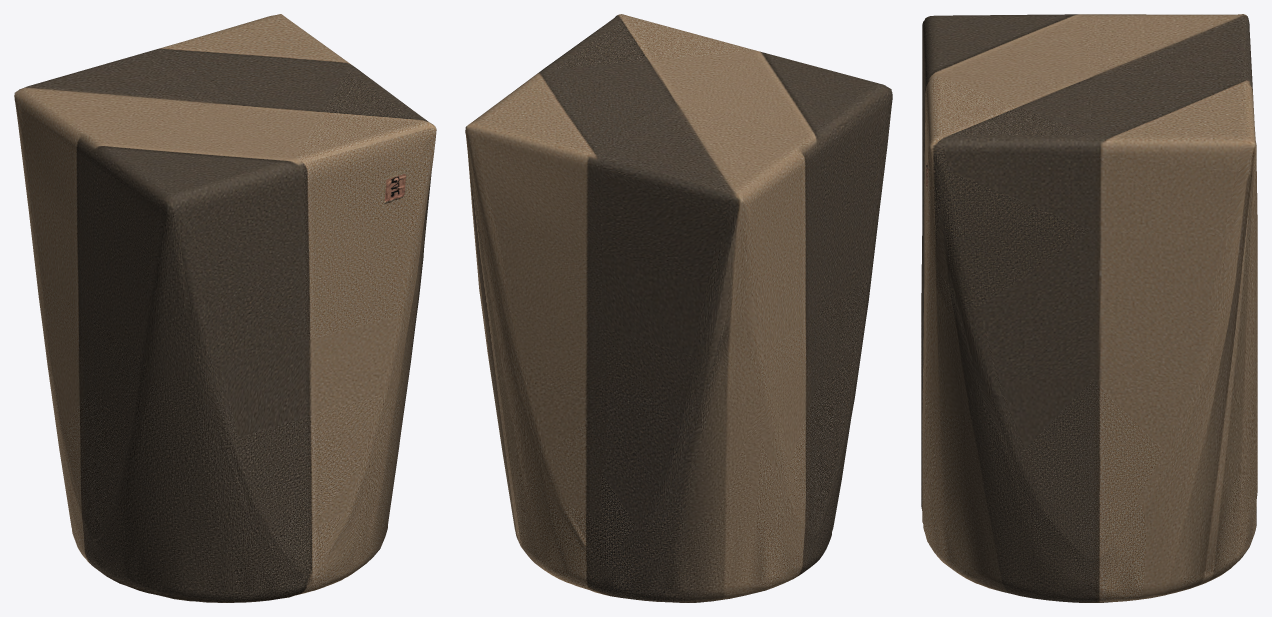
Rendered from striped pot 3d model_Clone1.glb.
The picture shows the model from 3 angles, left to right: view 1: azimuth 30°, elevation 25°; view 2: azimuth 150°, elevation 25°; view 3: azimuth 270°, elevation 25°; orthographic projection. The views are drawn at different scales.
Visible parts, largest first — view 1: tripo_node_9df1052b-172f-4fd3-9bae-bcf7ee562a75; view 2: tripo_node_9df1052b-172f-4fd3-9bae-bcf7ee562a75; view 3: tripo_node_9df1052b-172f-4fd3-9bae-bcf7ee562a75.
Part boxes in pixels (left/top/right/bottom): tripo_node_9df1052b-172f-4fd3-9bae-bcf7ee562a75: left=14, top=14, right=436, bottom=602; tripo_node_9df1052b-172f-4fd3-9bae-bcf7ee562a75: left=465, top=14, right=892, bottom=602; tripo_node_9df1052b-172f-4fd3-9bae-bcf7ee562a75: left=921, top=14, right=1257, bottom=602.
Size of the model in its own units: 0.666 by 0.998 by 0.6523.
1 material, 1 textured.
